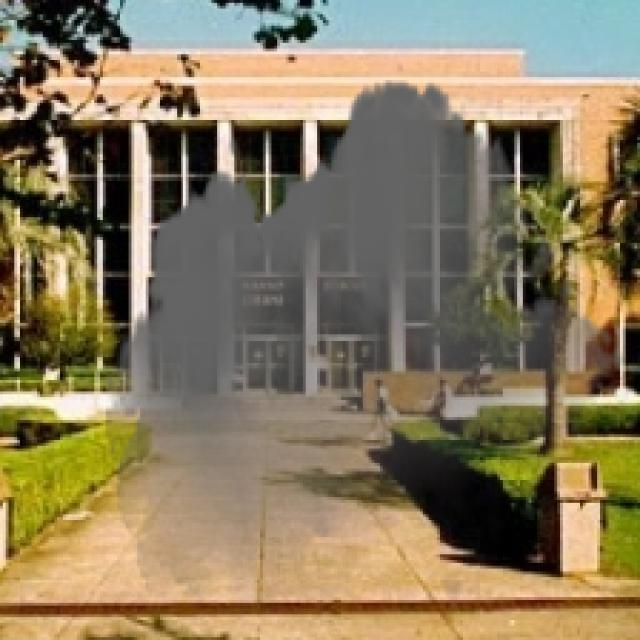Smoke: (105, 60, 626, 626)
